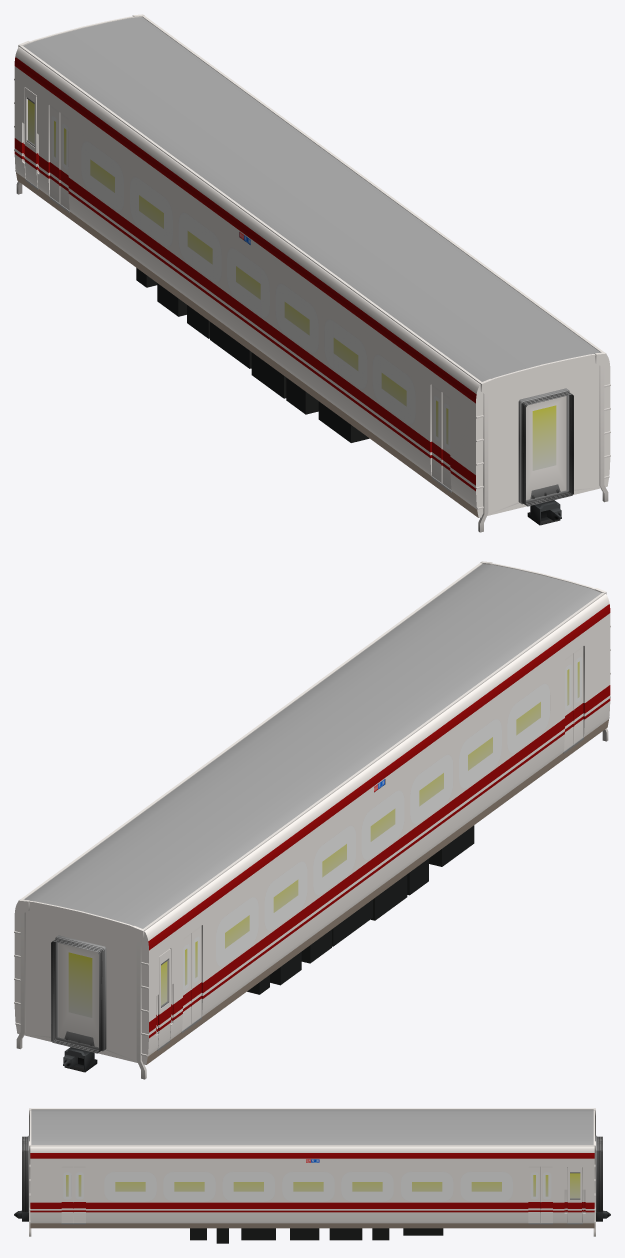
Rendered from PANO_2.glb.
3 renders of one model, top to bottom at view 1: azimuth 30°, elevation 25°; view 2: azimuth 150°, elevation 25°; view 3: azimuth 270°, elevation 25°, orthographic. The views are drawn at different scales.
Parts seen in each view (by area): view 1: obj3; view 2: obj3; view 3: obj3.
Boxes of the visible parts, x1,y1,x2,y2 form: obj3: (14, 14, 610, 532); obj3: (14, 561, 610, 1079); obj3: (14, 1108, 610, 1243).
Size of the model in its own units: 6.58 by 7.68 by 41.34.
Materials: 14 (13 with a texture image).
